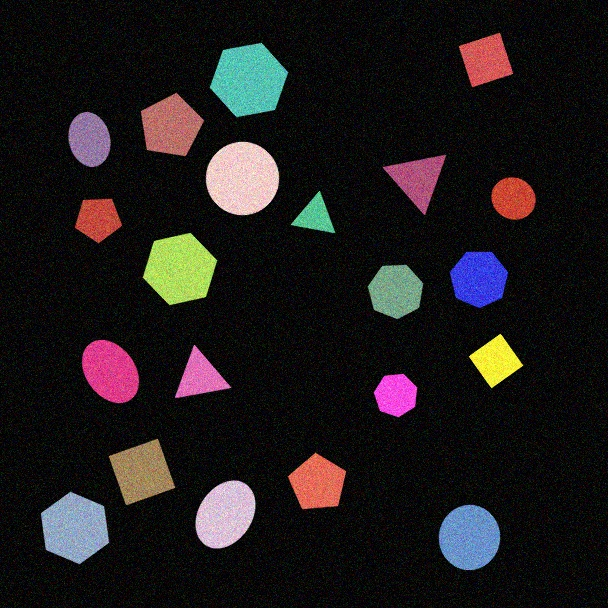Circulo: (205, 141, 280, 216), (438, 504, 501, 571), (490, 176, 537, 221)
Elipse: (195, 480, 256, 549), (81, 339, 140, 404), (68, 111, 111, 168)
Heptagono: (449, 251, 509, 309), (367, 264, 424, 320), (373, 373, 418, 418)
Hexagono: (209, 42, 289, 118), (142, 232, 218, 306), (40, 491, 110, 565)
Pentagono: (140, 92, 205, 157), (287, 452, 347, 510), (74, 198, 123, 244)
Quadrado: (108, 438, 176, 506), (458, 32, 514, 88), (468, 333, 524, 389)
Triangulo: (382, 154, 447, 216), (174, 345, 232, 399), (290, 191, 336, 234)
